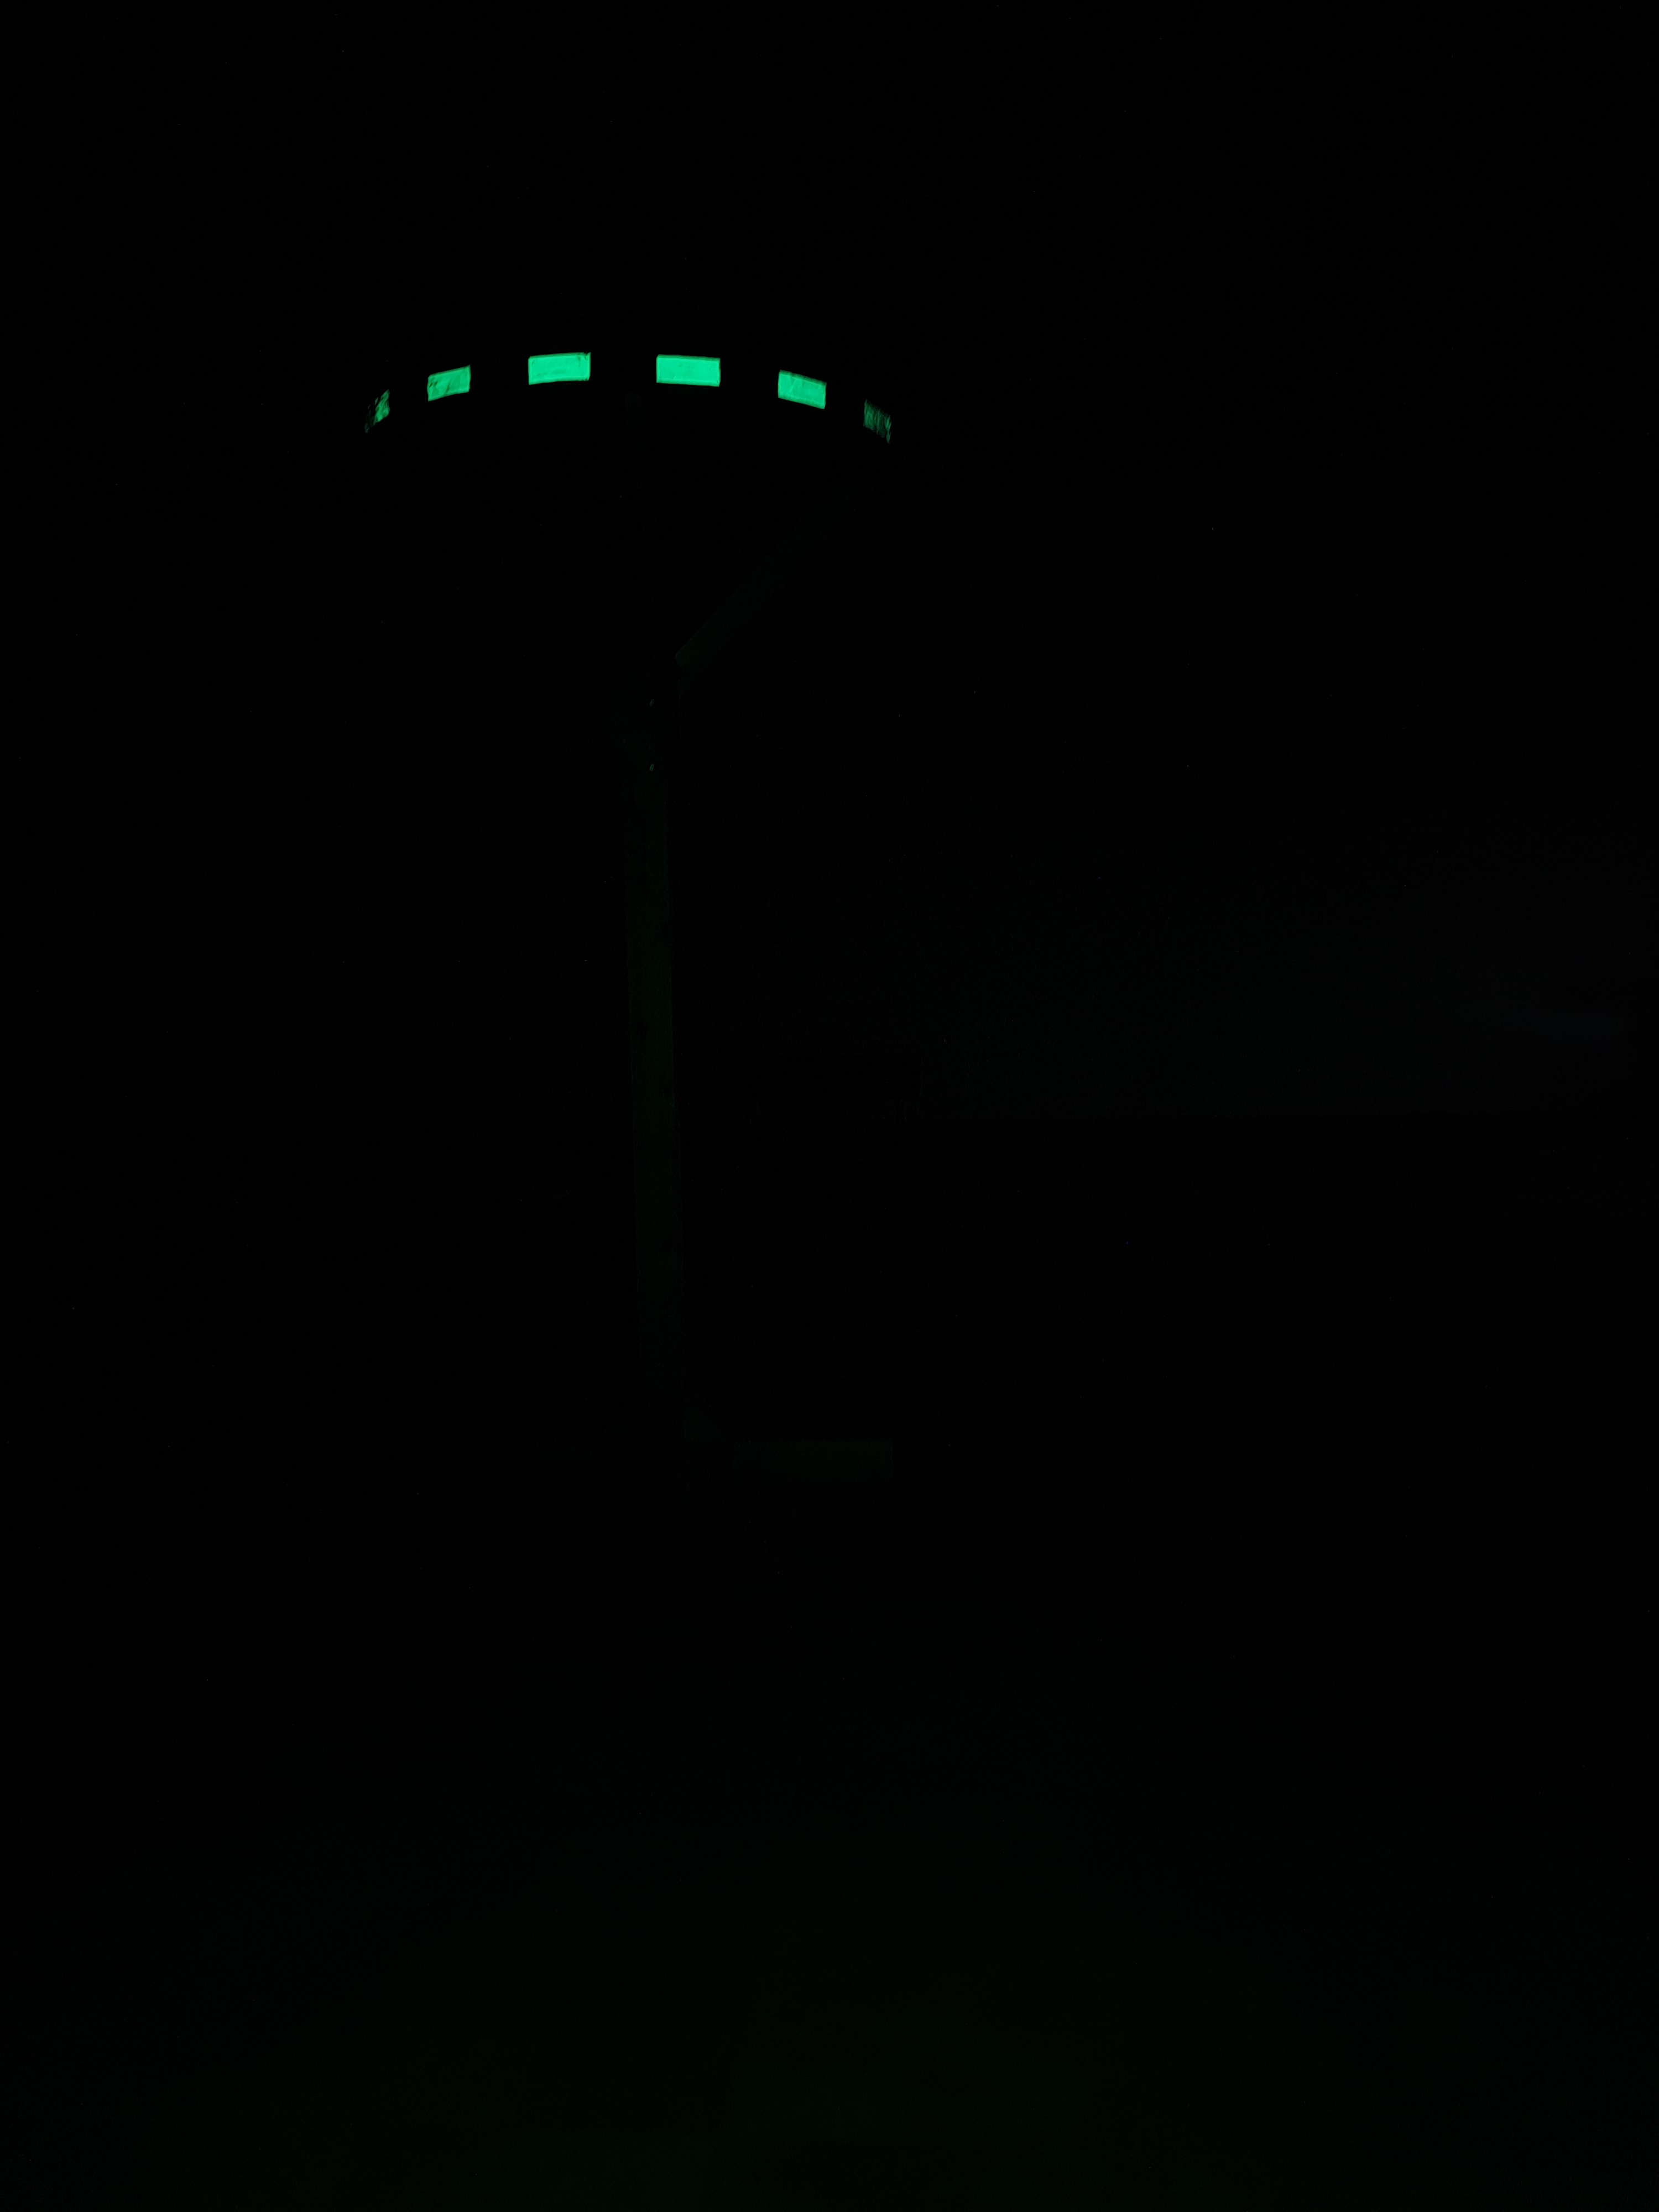hoop: (356, 343, 903, 458)
